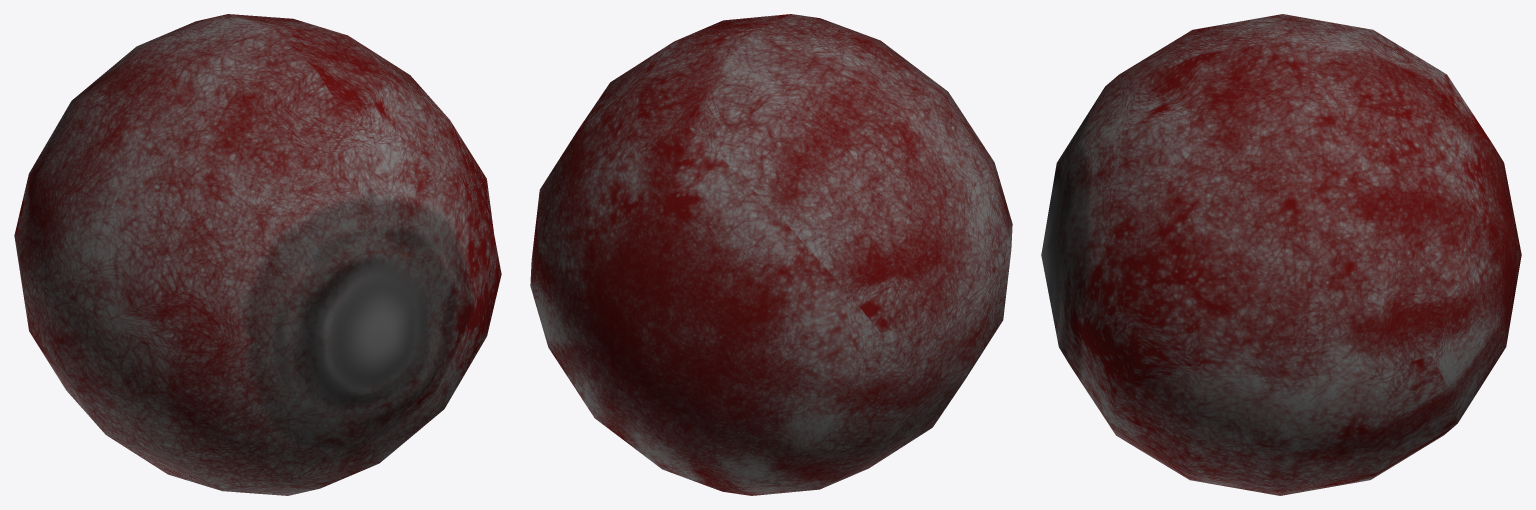
File: eye.fbx
The picture shows the model from 3 angles, left to right: view 1: azimuth 30°, elevation 25°; view 2: azimuth 150°, elevation 25°; view 3: azimuth 270°, elevation 25°; orthographic projection.
Parts seen in each view (by area): view 1: Cube; view 2: Cube; view 3: Cube.
Boxes of the visible parts, bbox=[...] form: Cube: bbox=[14, 14, 501, 495]; Cube: bbox=[530, 14, 1012, 495]; Cube: bbox=[1041, 14, 1521, 495].
Size of the model in its own units: 30.72 by 30.73 by 30.02.
